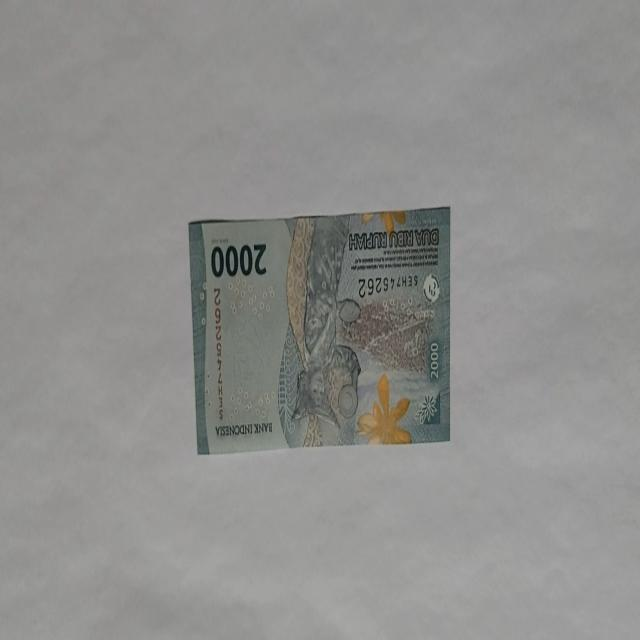dua ribu rupiah: (188, 206, 452, 455), (278, 213, 362, 447)
